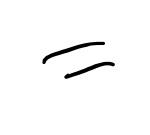eqv: (43, 42, 115, 79)
